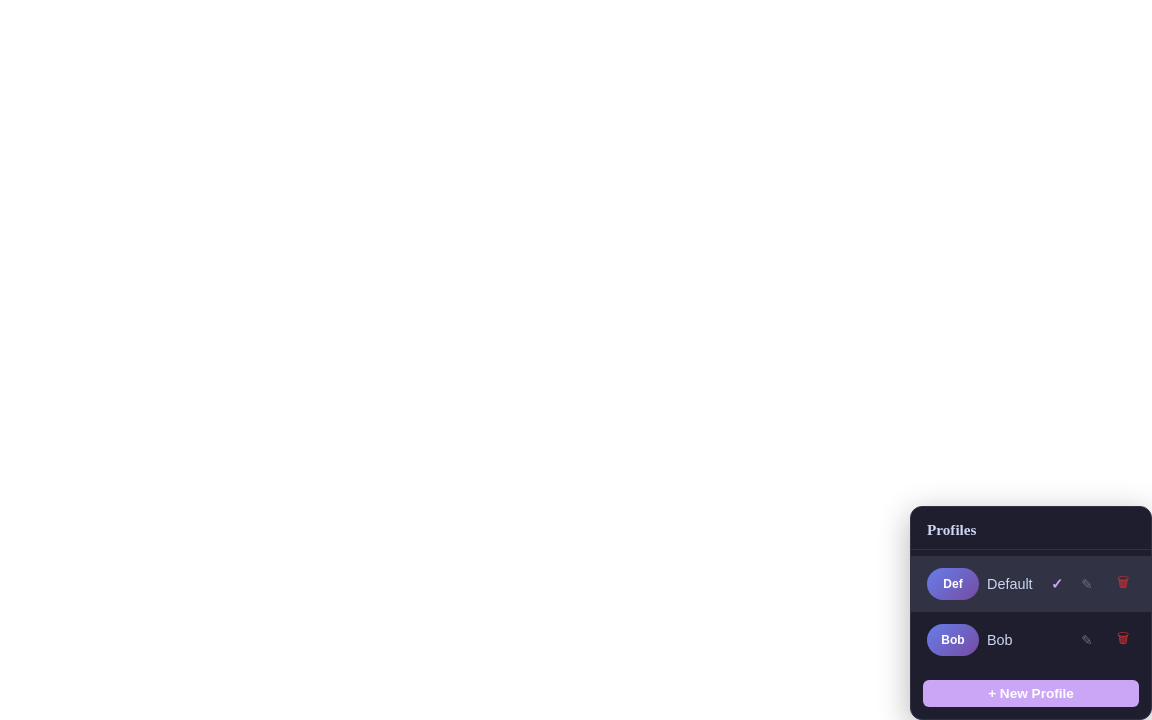
Scenario: ProfilePanel › shows confirmation dialog before deleting
(page scrolled)
Click the button named "Delete Bob". click: x=1123, y=640
box: 1107,624 -> 1139,656
(page scrolled)
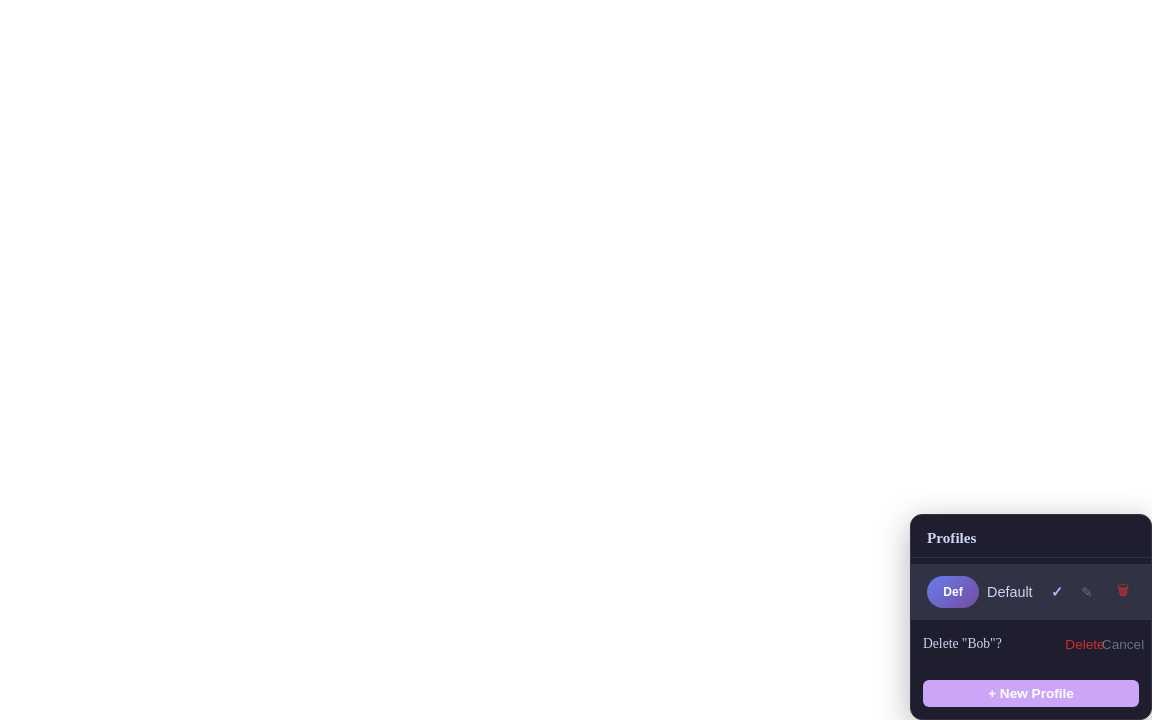
Now the text "Delete \"Bob\"?" is shown, box 923,636 -> 1002,651
Now the button "Delete" is shown, box 1069,628 -> 1101,660
Now the button "Cancel" is shown, box 1107,628 -> 1139,660
